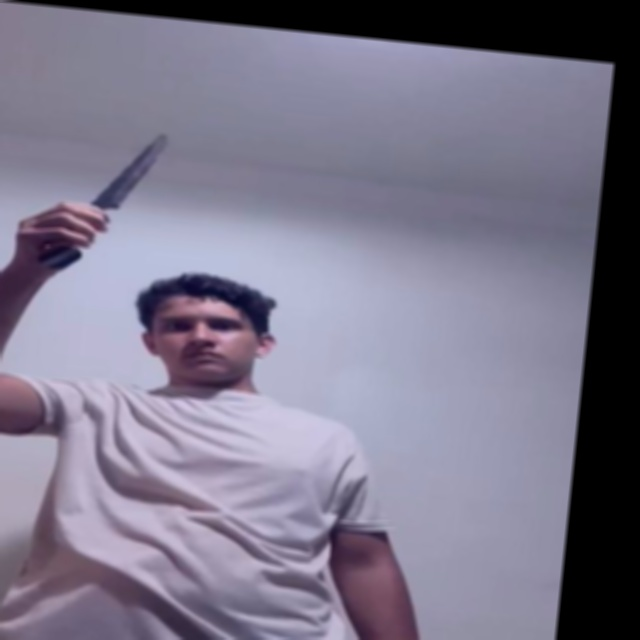Sharp-Object: (98, 130, 168, 214)
